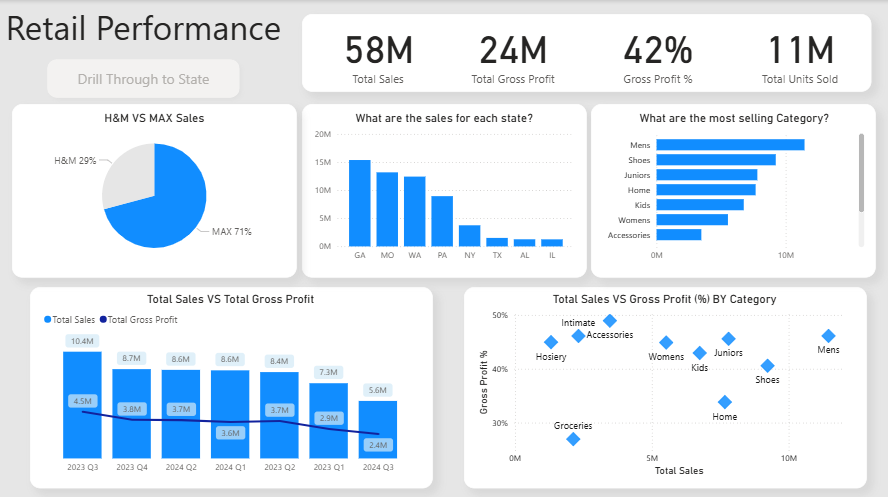

The dashboard page shown, as its layout file describes it:
{"tool":"powerbi","page":{"name":"Retail Performance","canvas":[1280,720],"ordinal":0},"visuals":[{"type":"shape","box":[435,20,820,111.7],"z":0},{"type":"shape","box":[668.3,413.3,580,290],"z":1000},{"type":"shape","box":[43.3,413.3,580,290],"z":2000},{"type":"shape","box":[435,150,410,250],"z":3000},{"type":"shape","box":[851.7,150,410,250],"z":4000},{"type":"shape","box":[16.7,150,410,250],"z":5000},{"type":"card","fields":{"Values":["Sales.Total Sales"]},"box":[448.3,25,193.3,101.7],"z":6000},{"type":"card","fields":{"Values":["Sales.Total Gross Profit"]},"box":[641.7,25,193.3,101.7],"z":7000},{"type":"clusteredColumnChart","title":"What are the sales for each state?","fields":{"Category":["State.State"],"Y":["Sales.Total Sales"]},"box":[448,160,384,225],"z":8000},{"type":"lineClusteredColumnComboChart","title":"Total Sales VS Total Gross Profit","fields":{"Category":["Date.FY Qtr"],"Y":["Sales.Total Sales"],"Y2":["Sales.Total Gross Profit"]},"box":[58,420,549,270],"z":9000},{"type":"pieChart","title":"H&M VS MAX Sales","fields":{"Y":["Sales.Total Sales"],"Category":["Sales.Chain"]},"box":[30,160,384,225],"z":10000},{"type":"clusteredBarChart","title":"What are the most selling Category?","fields":{"Y":["Sales.Total Sales"],"Category":["Sales.Category"]},"box":[865,160,384,225],"z":11000},{"type":"scatterChart","title":"Total Sales VS Gross Profit (%) BY Category","fields":{"X":["Sales.Total Sales"],"Y":["Sales.Gross Profit %"],"Category":["Sales.Category"]},"box":[683,420,549,270],"z":12000},{"type":"card","fields":{"Values":["Sales.Gross Profit %"]},"box":[851.7,25,193.3,101.7],"z":13000},{"type":"card","fields":{"Values":["Sales.Total Units Sold"]},"box":[1055,25,193.3,101.7],"z":14000},{"type":"textbox","box":[0,0,413.3,78.3],"z":15000},{"type":"actionButton","title":"Drill Through To State","box":[58.3,76.7,295,73.3],"z":16000}]}

Visuals, with their boxes in screenshot pixels (x1, y1, x2, y2), scaled from the page's 1280x720 canvas onto the 888x497 screenshot:
shape: 302/14/871/91
shape: 464/285/866/485
shape: 30/285/432/485
shape: 302/104/586/276
shape: 591/104/875/276
shape: 12/104/296/276
card - Sales.Total Sales: 311/17/445/87
card - Sales.Total Gross Profit: 445/17/579/87
"What are the sales for each state?" clusteredColumnChart: 311/110/577/266
"Total Sales VS Total Gross Profit" lineClusteredColumnComboChart: 40/290/421/476
"H&M VS MAX Sales" pieChart: 21/110/287/266
"What are the most selling Category?" clusteredBarChart: 600/110/866/266
"Total Sales VS Gross Profit (%) BY Category" scatterChart: 474/290/855/476
card - Sales.Gross Profit %: 591/17/725/87
card - Sales.Total Units Sold: 732/17/866/87
textbox: 0/0/287/54
"Drill Through To State" actionButton: 40/53/245/104
